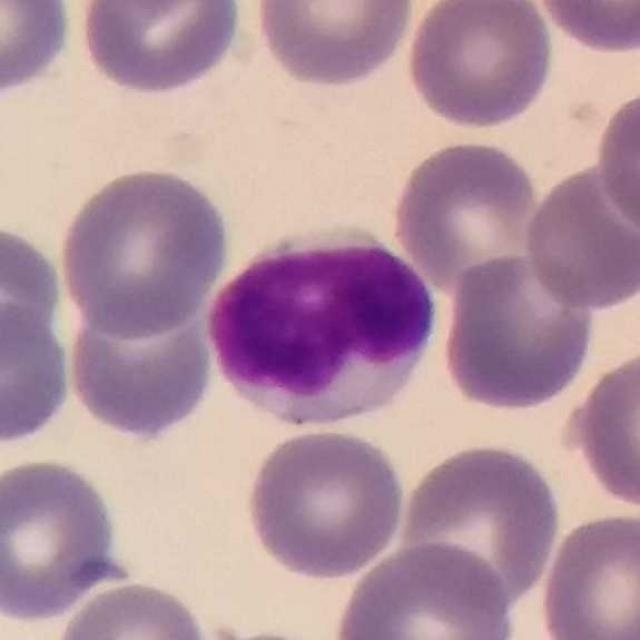Lymphocyte: (202, 220, 446, 433)
RBC: (56, 162, 232, 340), (395, 439, 564, 611), (437, 249, 601, 415), (240, 424, 410, 582), (388, 136, 546, 296), (61, 291, 218, 445), (0, 453, 129, 626), (401, 0, 557, 132), (331, 537, 519, 640), (520, 158, 640, 314), (75, 0, 248, 100), (249, 0, 419, 91), (535, 507, 639, 640), (561, 343, 640, 513), (0, 299, 75, 451), (51, 579, 214, 640), (0, 220, 67, 358), (0, 0, 77, 104), (592, 81, 640, 244), (532, 0, 640, 56)
